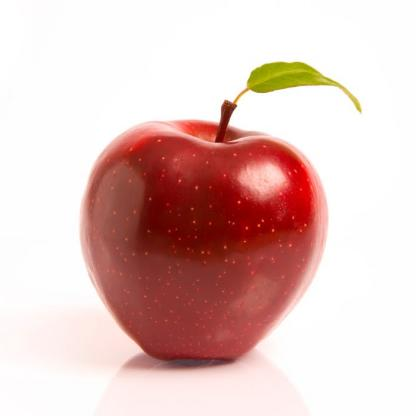apple: (75, 119, 335, 376)
